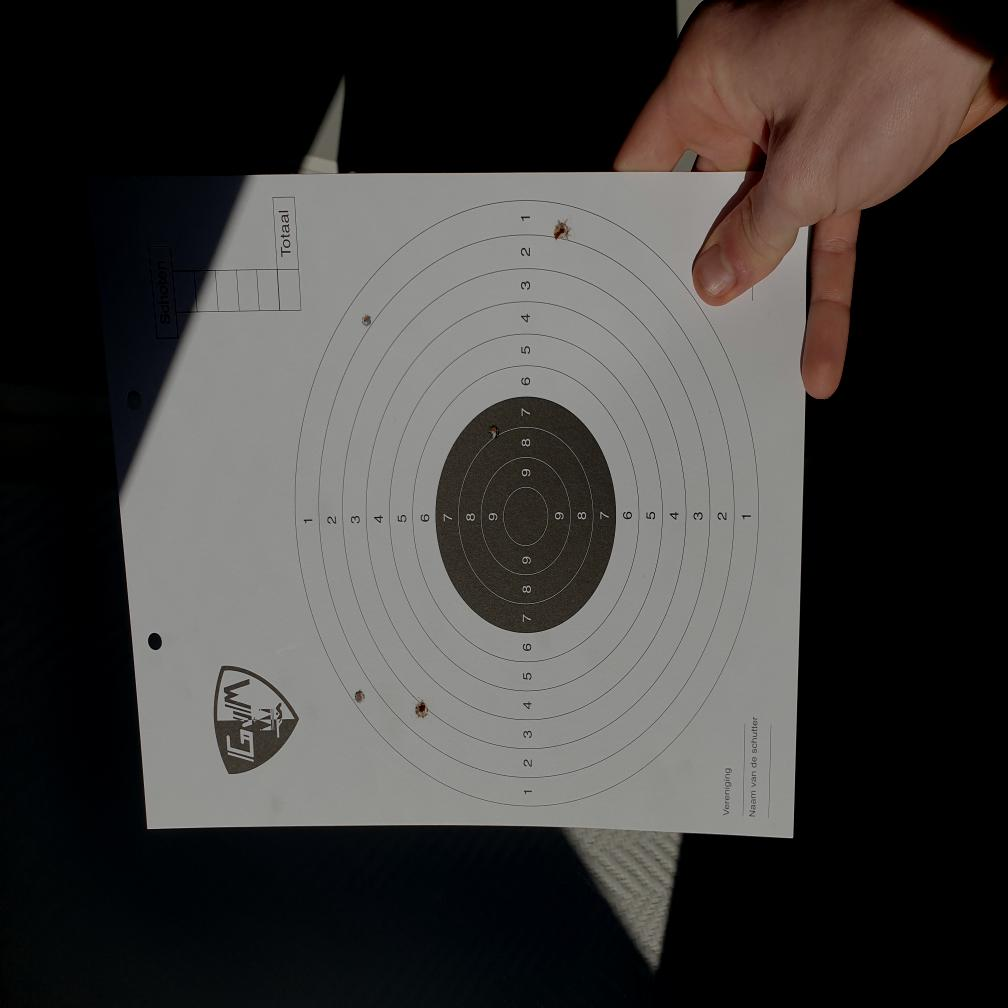1: (350, 687, 367, 706), (361, 314, 372, 328)
2: (553, 218, 573, 242)
3: (413, 699, 431, 720)
8: (488, 423, 500, 440)
Target: (292, 195, 761, 811)
black_contour: (438, 397, 616, 633)
